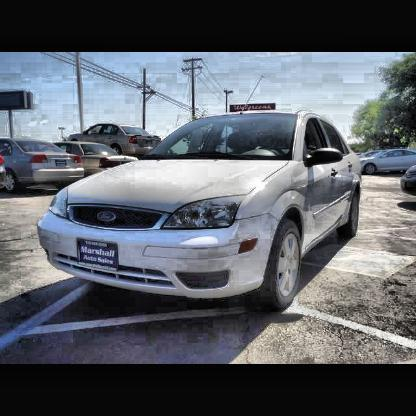Ford Focus Sedan 2007: (40, 113, 364, 306)
